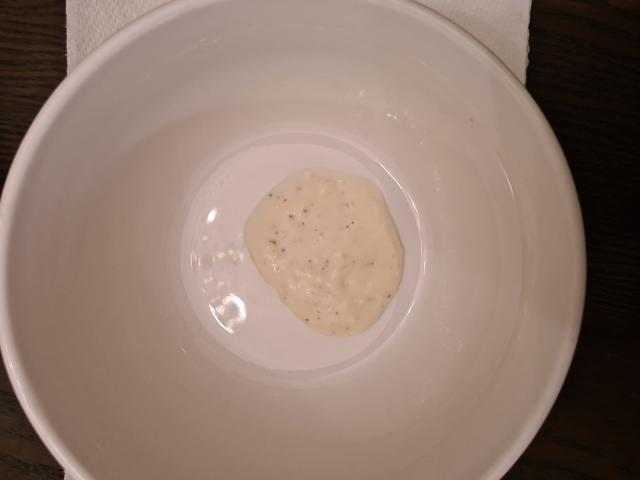kichen waste: (244, 169, 404, 336)
